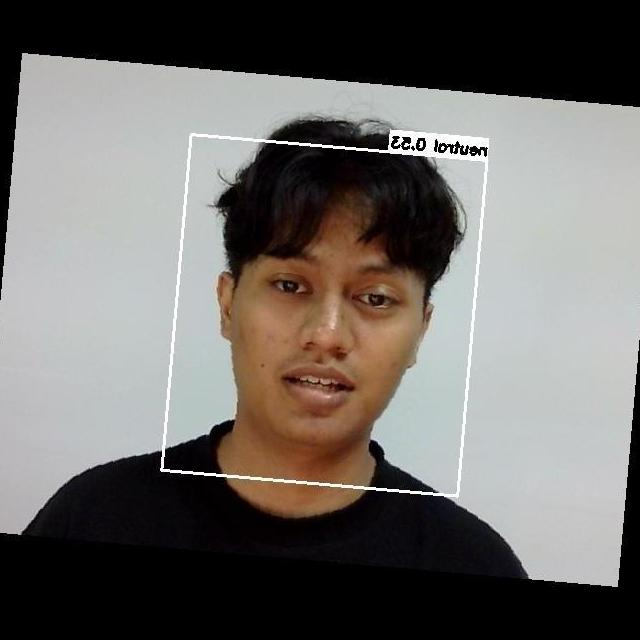Fear: (227, 221, 429, 441)
